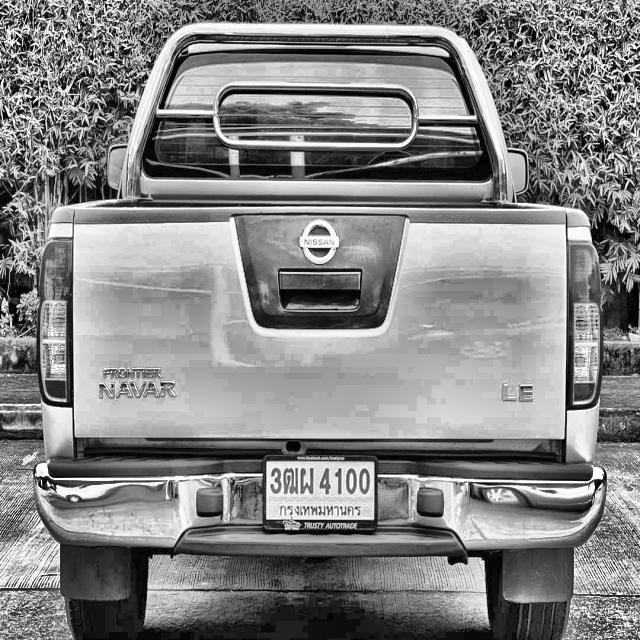license-plate: (261, 452, 378, 534)
